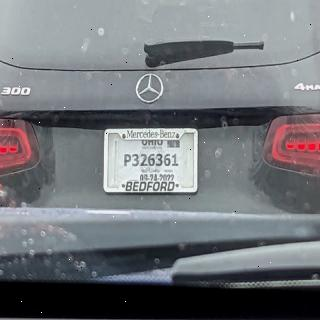license: (104, 129, 199, 196)
